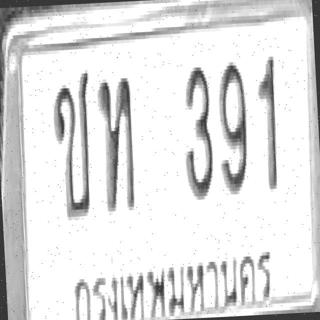A10: (49, 66, 96, 221)
A23: (96, 73, 138, 214)
N01: (255, 53, 282, 193)
N03: (179, 64, 216, 200)
N09: (215, 58, 250, 195)
P04: (69, 244, 275, 320)
